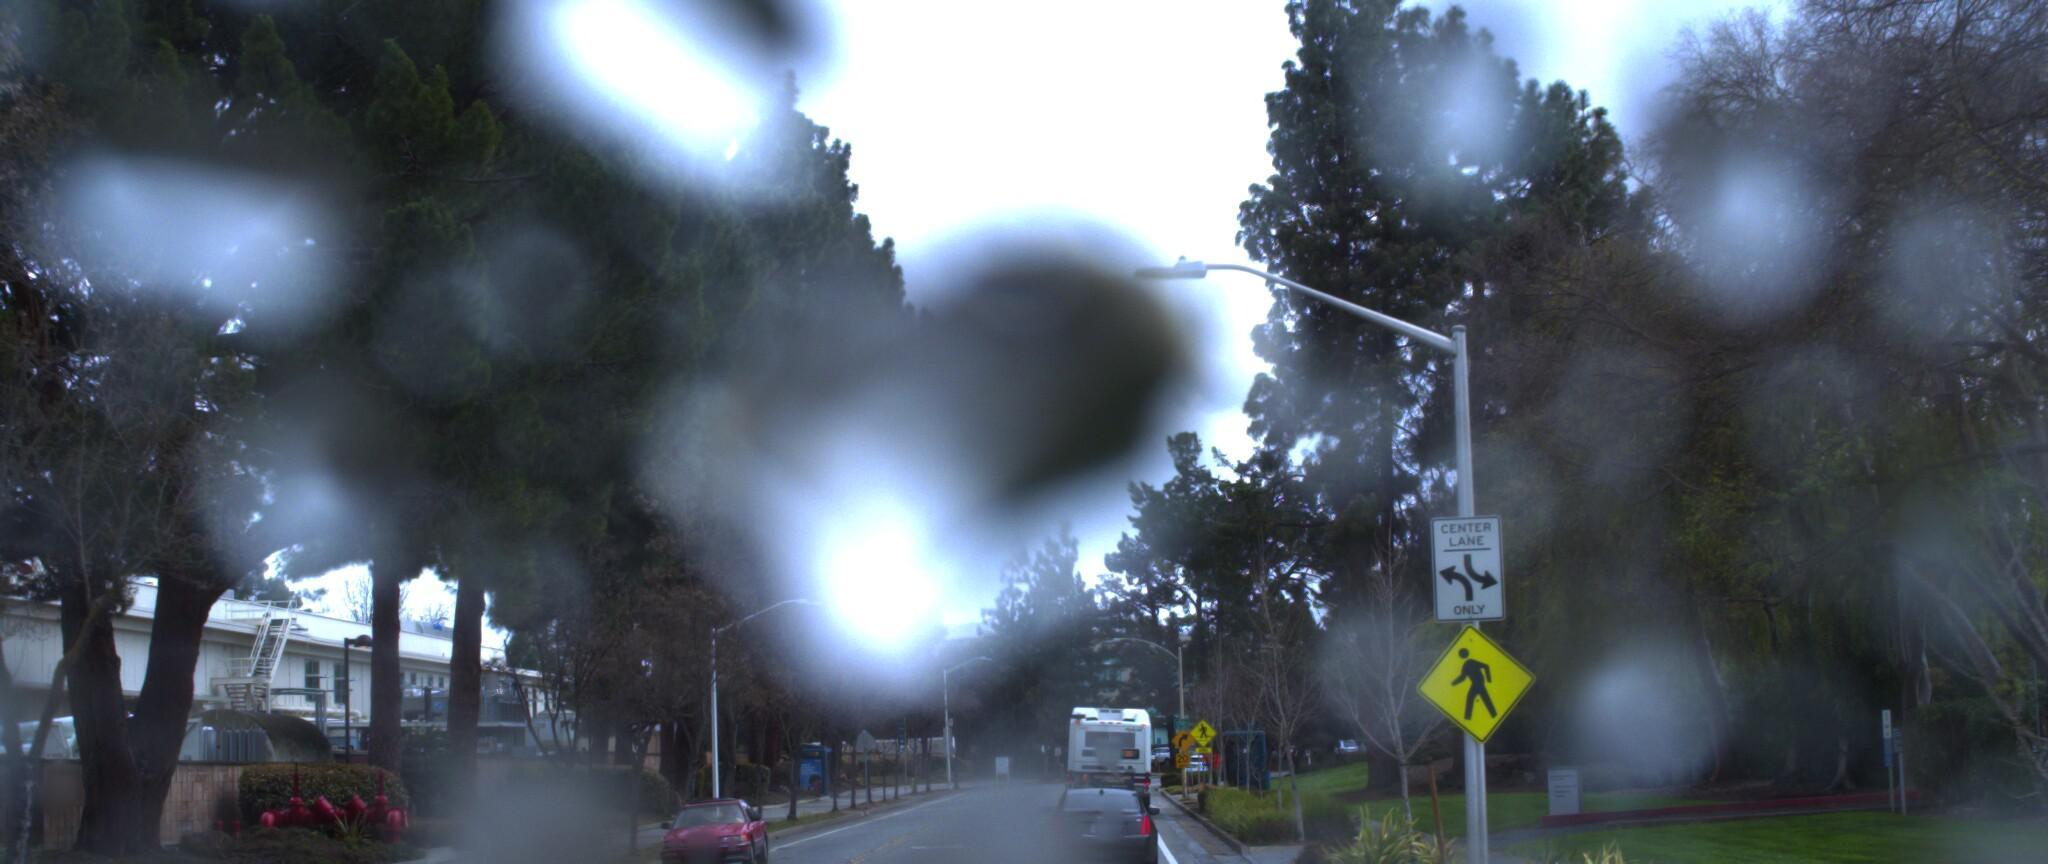car: (641, 784, 768, 864), (1032, 784, 1156, 864)
